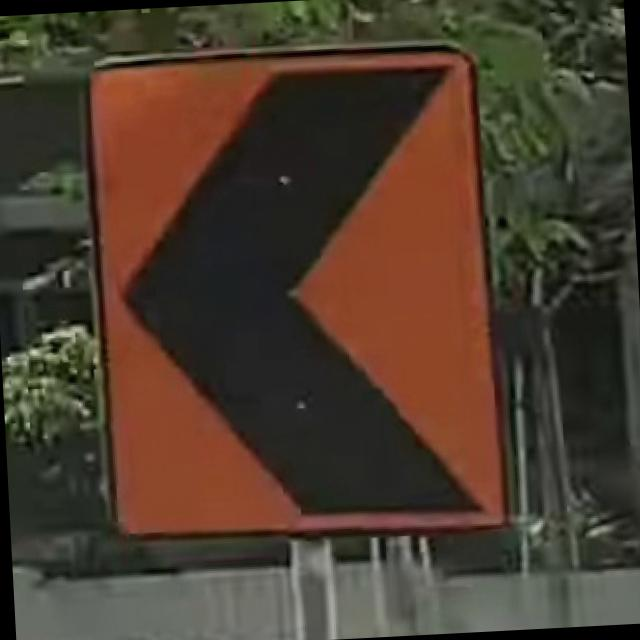curveleft_sign: (75, 32, 518, 554)
